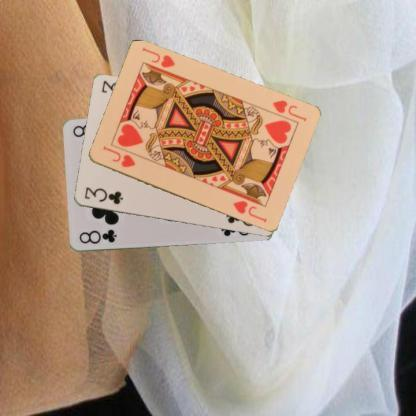3c: (82, 184, 124, 206)
8c: (76, 228, 118, 246)
Jh: (270, 98, 308, 123), (100, 144, 136, 170)
